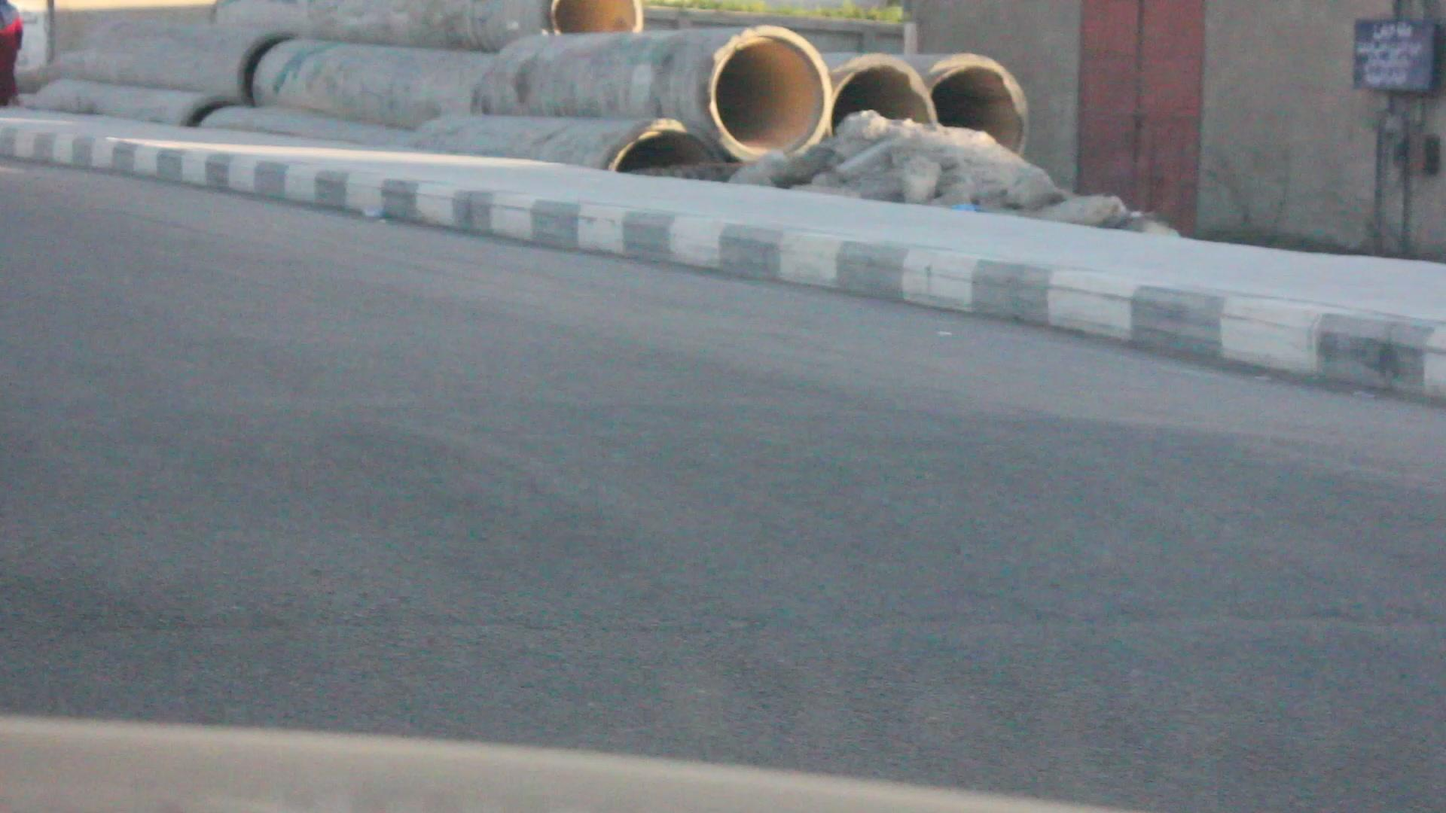Bump: (0, 366, 1439, 658)
